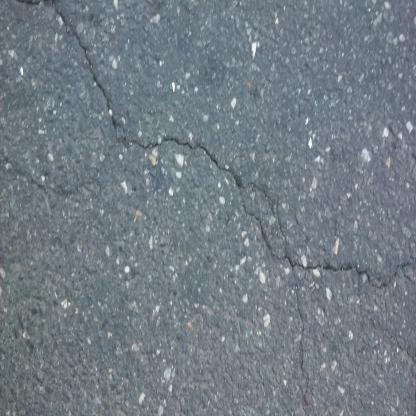Cracks: (1, 1, 415, 293), (283, 249, 315, 397)
